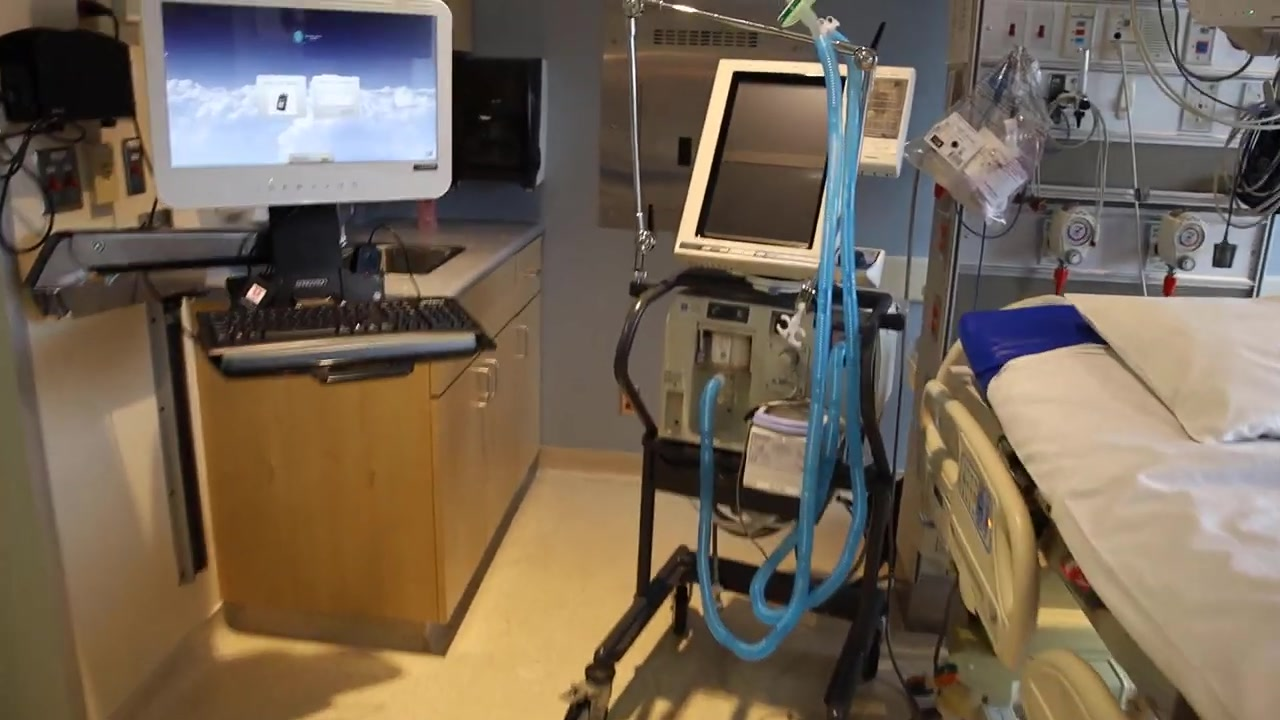bedrail: (916, 378, 1040, 668), (1022, 647, 1129, 720)
breathing_tube: (695, 1, 879, 664)
computer: (139, 1, 453, 208)
counter: (184, 224, 543, 652)
countertop: (202, 221, 543, 298)
dispenser: (451, 56, 550, 194)
handle: (471, 366, 494, 412), (481, 351, 502, 401), (511, 319, 532, 365)
hospital_bed: (918, 293, 1280, 720)
keyboard: (195, 296, 485, 371)
sink: (370, 240, 461, 277)
ventilator: (651, 56, 916, 468)
